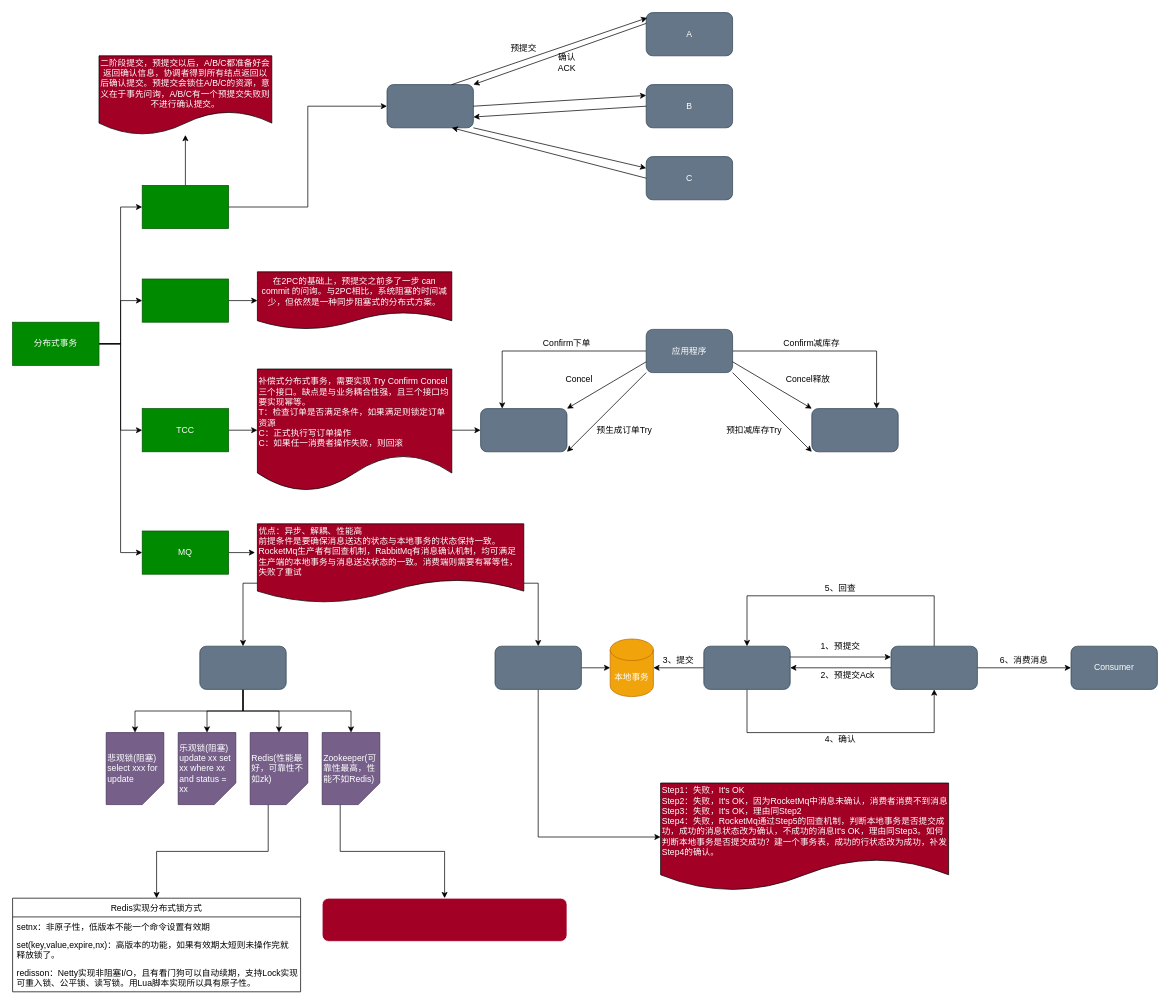
Some shapes in this 1170 by 1007 pixel diagram are drawn without their labels. The shapes that lost their labels are listed below. From the top down, each one's box as (x1, y1, x2, y2) in pixels, then its label:
(386, 84, 473, 128): 协调者
(141, 185, 229, 229): 2PC
(141, 278, 229, 322): 3PC
(480, 408, 567, 452): 订单
(811, 408, 898, 452): 库存
(199, 645, 286, 689): 幂等性（分布式锁）
(494, 645, 581, 689): RocketMq回查
(703, 645, 790, 689): Producer
(890, 645, 977, 689): RocketMq
(321, 897, 567, 941): 使用开源库Curator实现： 创建临时节点（目录），如果是最小节点则获取锁； 如果不是最小节点，则等待最小节点处理完后被删除。
